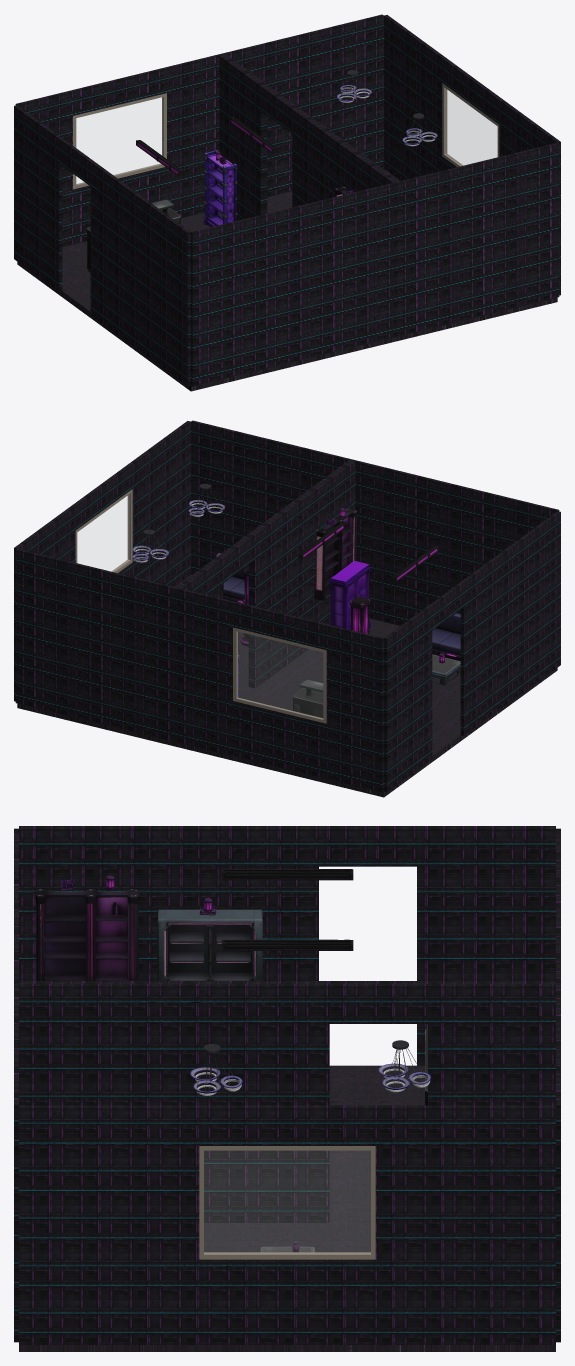
The model's file is cyberpunk-retail-cafe.glb.
3 renders of one model, top to bottom at view 1: azimuth 30°, elevation 25°; view 2: azimuth 150°, elevation 25°; view 3: azimuth 270°, elevation 25°, orthographic. The views are drawn at different scales.
Visible parts, largest first — view 1: geometry_0.016, geometry_0.001, geometry_0.015, geometry_0.014, geometry_0.003, geometry_0.002, geometry_0.004, glass.001, geometry_0.013, glass, geometry_0.022, geometry_0 (+6 smaller); view 2: geometry_0.014, geometry_0.003, geometry_0.015, geometry_0.016, geometry_0.001, geometry_0.004, geometry_0.002, geometry_0.013, glass.001, glass, geometry_0.034, geometry_0.021 (+11 smaller); view 3: geometry_0.002, geometry_0.017, geometry_0.015, glass, geometry_0.025, geometry_0, geometry_0.026, geometry_0.013, frame, geometry_0.001, geometry_0.003, geometry_0.004 (+6 smaller).
Part boxes in pixels (x1,y1,x2,y2): geometry_0.016: (191,182,397,386); geometry_0.001: (396,142,559,336); geometry_0.015: (14,105,190,385); geometry_0.014: (15,54,221,247); geometry_0.003: (221,14,383,197); geometry_0.002: (384,15,560,295); geometry_0.004: (219,55,395,220); glass.001: (76,97,162,184); geometry_0.013: (17,212,396,391); glass: (445,89,497,165); geometry_0.022: (203,150,237,227); geometry_0: (267,169,557,341); geometry_0.014: (177,588,383,792); geometry_0.003: (15,548,178,742); geometry_0.015: (384,511,560,791); geometry_0.016: (353,460,559,625); geometry_0.001: (191,420,353,574); geometry_0.004: (179,461,355,688); geometry_0.002: (14,421,190,701); geometry_0.013: (178,618,557,797); glass.001: (237,632,322,718); glass: (77,495,129,571); geometry_0.034: (312,508,357,600); geometry_0.021: (329,560,370,629); geometry_0.002: (19,1105,555,1344); geometry_0.017: (19,983,555,1222); geometry_0.015: (19,826,555,1065); glass: (204,1151,370,1253); geometry_0.025: (35,889,139,980); geometry_0: (19,1220,555,1351); geometry_0.026: (157,909,262,980); geometry_0.013: (329,1065,424,1220); frame: (199,1146,375,1259); geometry_0.001: (14,983,18,1342); geometry_0.003: (556,983,560,1342); geometry_0.004: (19,981,555,983).
Bounding box in the file's own units: 7.14 × 2.91 × 5.86.
19 materials, 17 textured.
